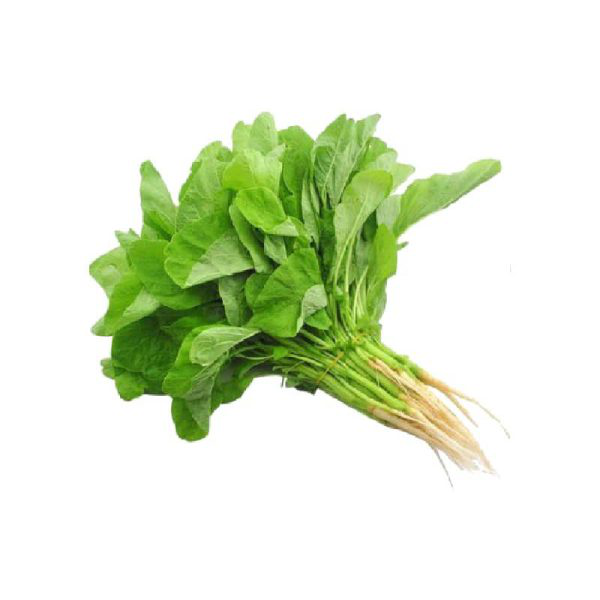Bayam: (69, 100, 568, 534)
